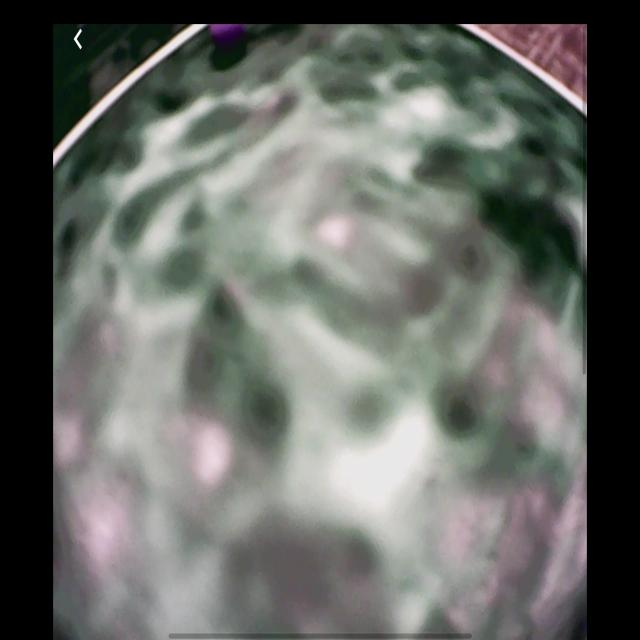ball: (208, 22, 245, 49)
